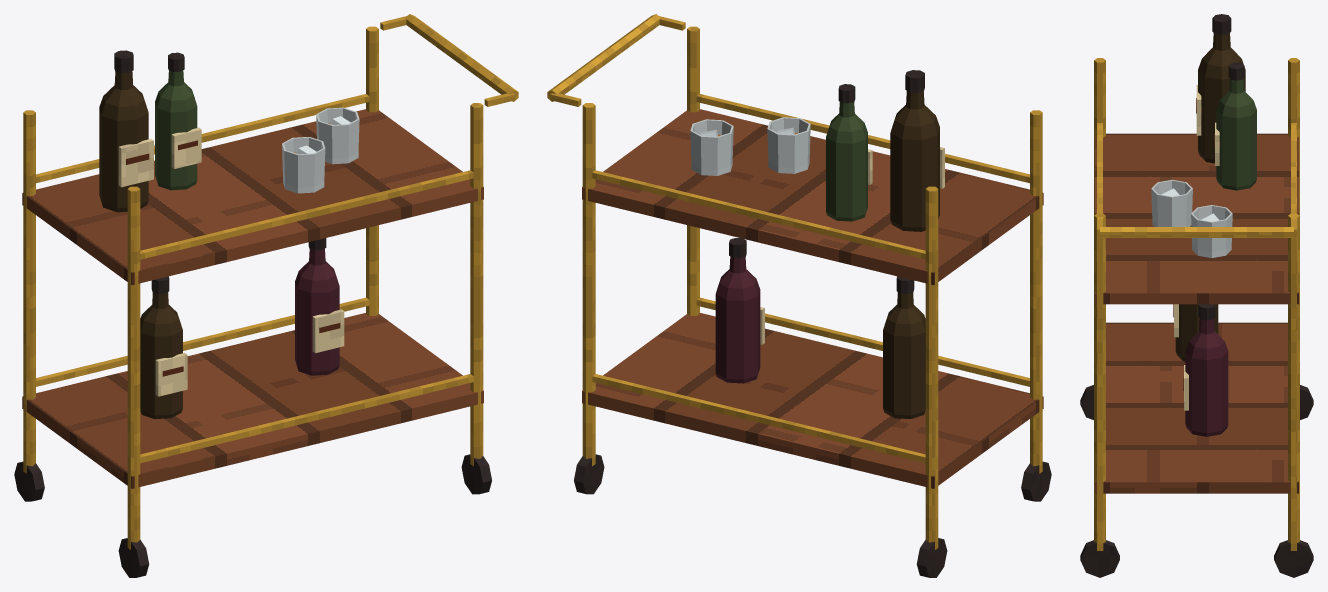
File: bar_cart.glb
3 views of the same model, side by side, from view 1: azimuth 30°, elevation 25°; view 2: azimuth 150°, elevation 25°; view 3: azimuth 270°, elevation 25° (orthographic). The views are drawn at different scales.
Parts seen in each view (by area): view 1: BarCart; view 2: BarCart; view 3: BarCart.
Boxes of the visible parts, x1=… form: BarCart: x1=14, y1=14, x2=518, y2=577; BarCart: x1=547, y1=14, x2=1051, y2=577; BarCart: x1=1080, y1=14, x2=1313, y2=577.
Bounding box in the file's own units: 0.8408 × 0.95 × 0.47.
Materials: 11 (4 with a texture image).
